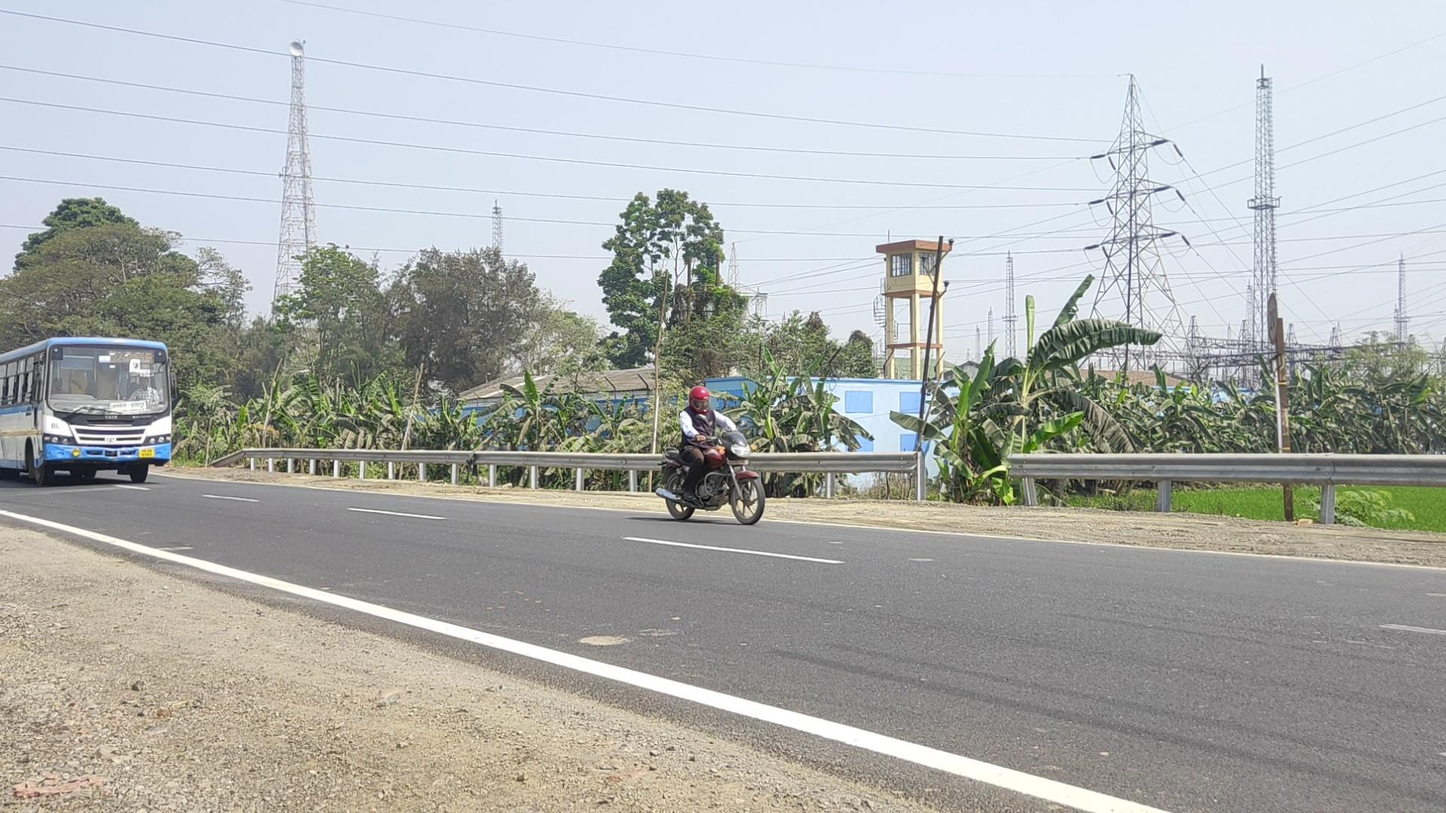Bus: (1, 337, 171, 486)
bike: (655, 386, 765, 525)
